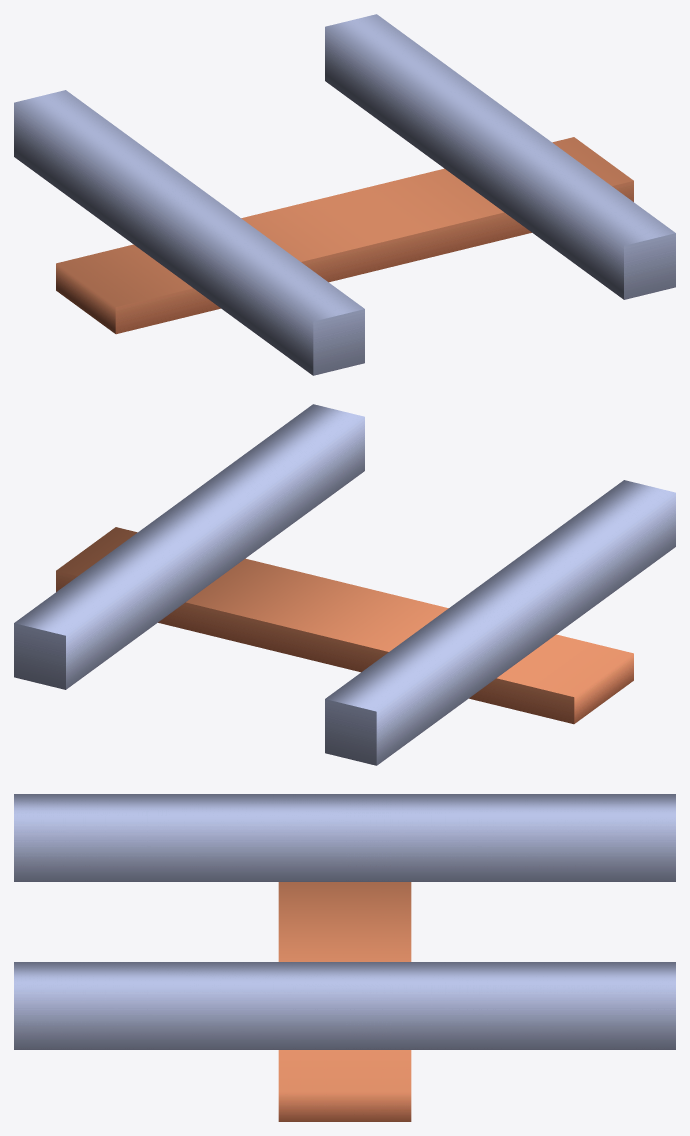
Rendered from track-single.glb.
The picture shows the model from 3 angles, top to bottom: view 1: azimuth 30°, elevation 25°; view 2: azimuth 150°, elevation 25°; view 3: azimuth 270°, elevation 25°; orthographic projection. The views are drawn at different scales.
Parts seen in each view (by area): view 1: track-single; view 2: track-single; view 3: track-single.
Boxes of the visible parts, x1,y1,x2,y2 form: track-single: [14, 14, 675, 375]; track-single: [14, 404, 675, 765]; track-single: [14, 794, 675, 1121].
Bounding box in the file's own units: 1 × 0.15 × 1.
1 material, 1 textured.
